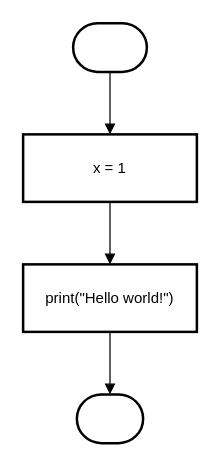
Image size: 219x465. Some labels were removed from this diagram. The centre of each missing label's shape, as x and y in pixels:
"End" goes at pixel 109 418.
"Start" goes at pixel 109 46.
